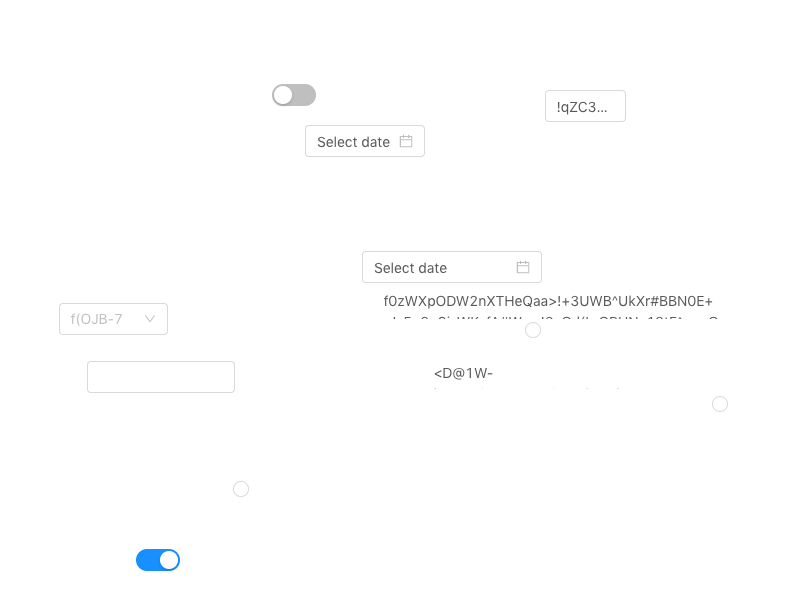DatePicker: (362, 251, 542, 283), (305, 125, 425, 157)
Input: (87, 361, 235, 393), (545, 90, 626, 122)
Radio: (712, 393, 728, 413), (525, 319, 541, 339), (233, 478, 249, 498)
Select: (59, 303, 168, 335)
Switch: (136, 548, 180, 572), (272, 83, 316, 107)
Text: (384, 290, 737, 319), (434, 362, 625, 389)
